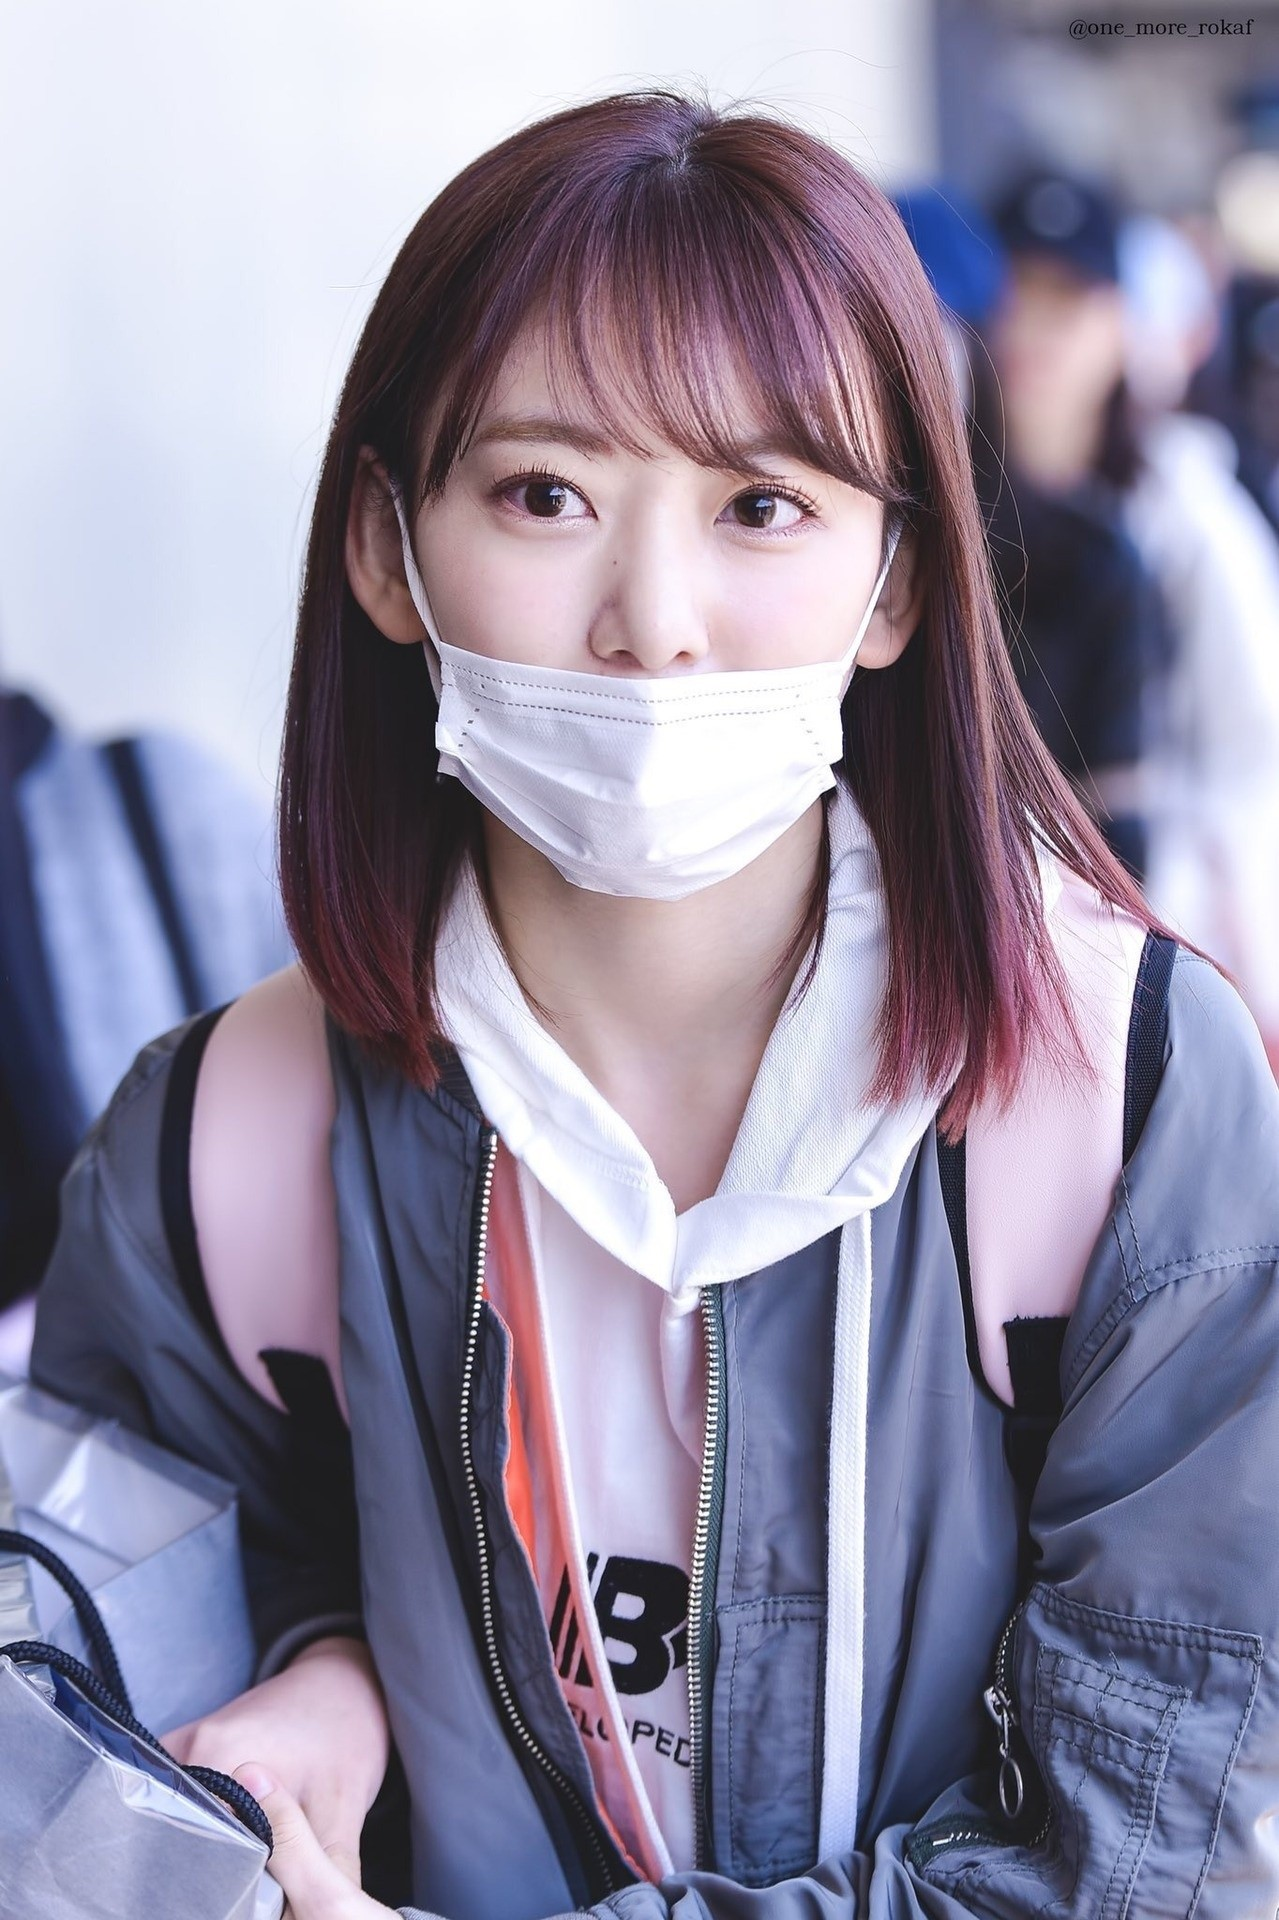face_with_mask: (313, 206, 955, 958)
